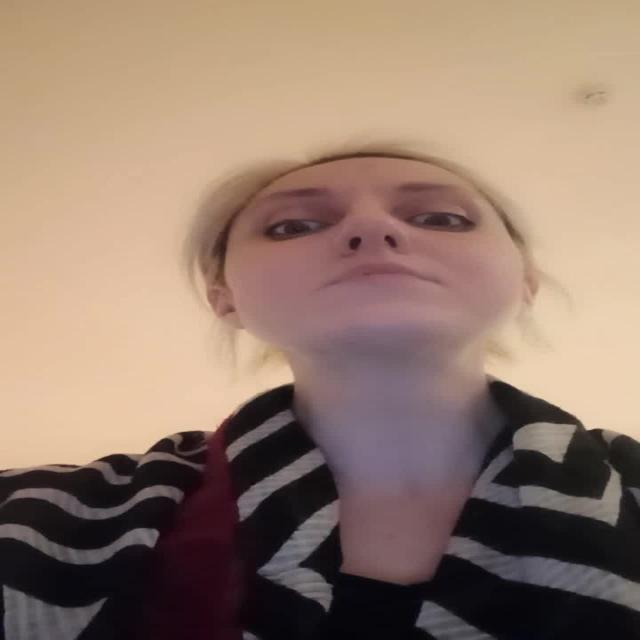earlobe: (222, 311, 245, 331)
eye: (265, 218, 328, 238), (406, 212, 472, 229)
wholeear: (208, 286, 245, 330)
